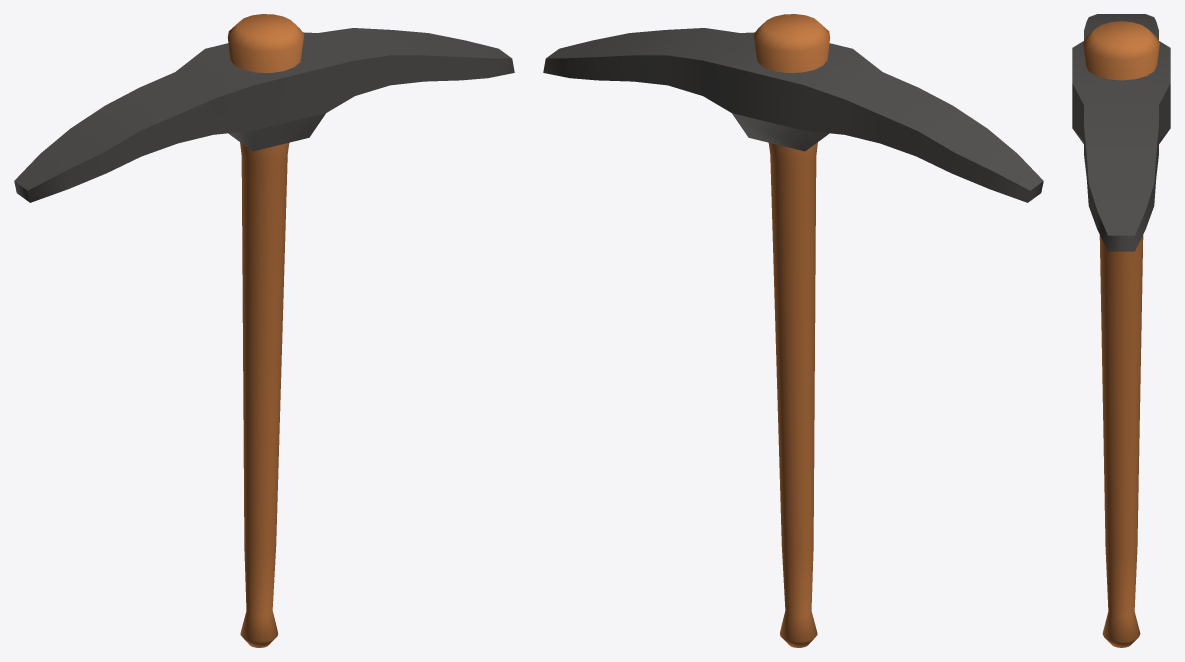
File: Pickaxe.fbx
The picture shows the model from 3 angles, left to right: view 1: azimuth 30°, elevation 25°; view 2: azimuth 150°, elevation 25°; view 3: azimuth 270°, elevation 25°; orthographic projection.
Parts seen in each view (by area): view 1: Pickaxe; view 2: Pickaxe; view 3: Pickaxe.
Part boxes in pixels (x1=…): Pickaxe: x1=14, y1=14, x2=514, y2=647; Pickaxe: x1=543, y1=14, x2=1043, y2=647; Pickaxe: x1=1072, y1=14, x2=1170, y2=647.
Size of the model in its own units: 169 by 204 by 29.69.
